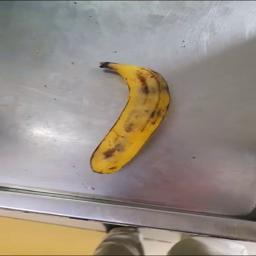Banana Semirotten: (81, 54, 179, 177)
